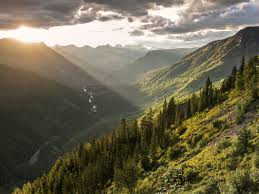mountain: (5, 24, 252, 194)
sky: (4, 2, 235, 49)
